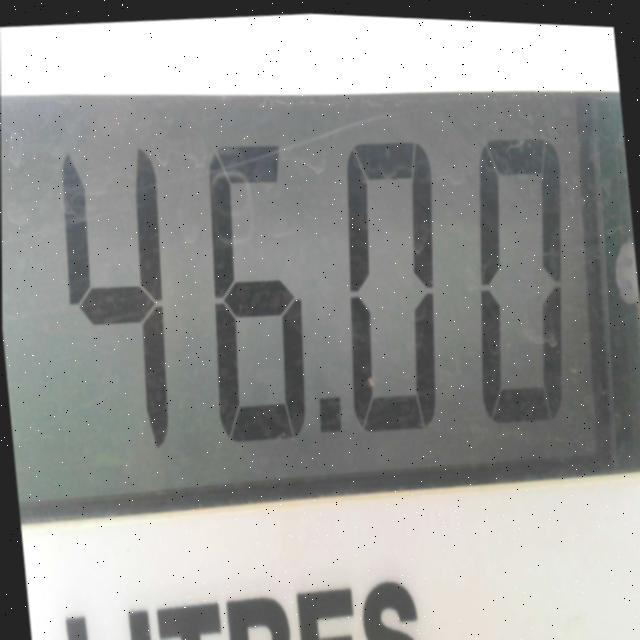.: (308, 374, 353, 460)
0: (328, 131, 474, 455), (453, 115, 594, 437)
4: (38, 123, 206, 468)
6: (174, 122, 319, 458)
